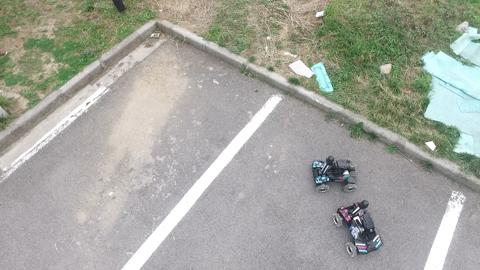chariot: (331, 192, 391, 259), (308, 147, 361, 195)
